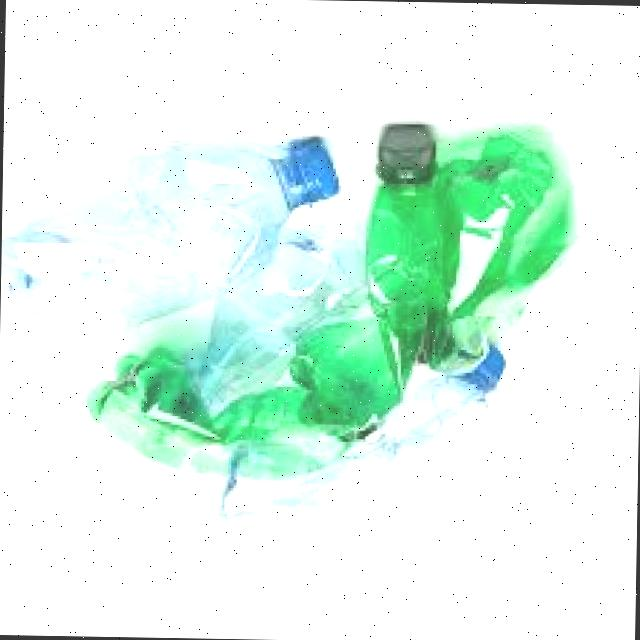bottle: (70, 104, 464, 492), (0, 100, 340, 344), (209, 350, 517, 531)
cap: (278, 126, 344, 209), (374, 119, 435, 179)
